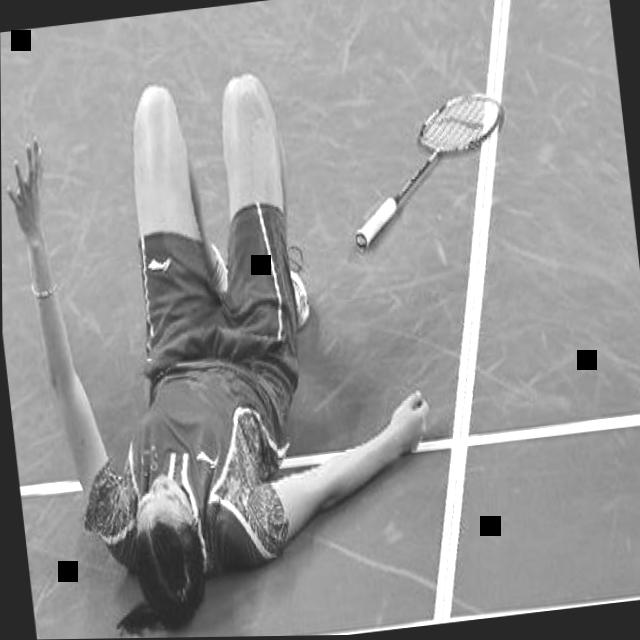Fall-Detected: (0, 20, 459, 640)
